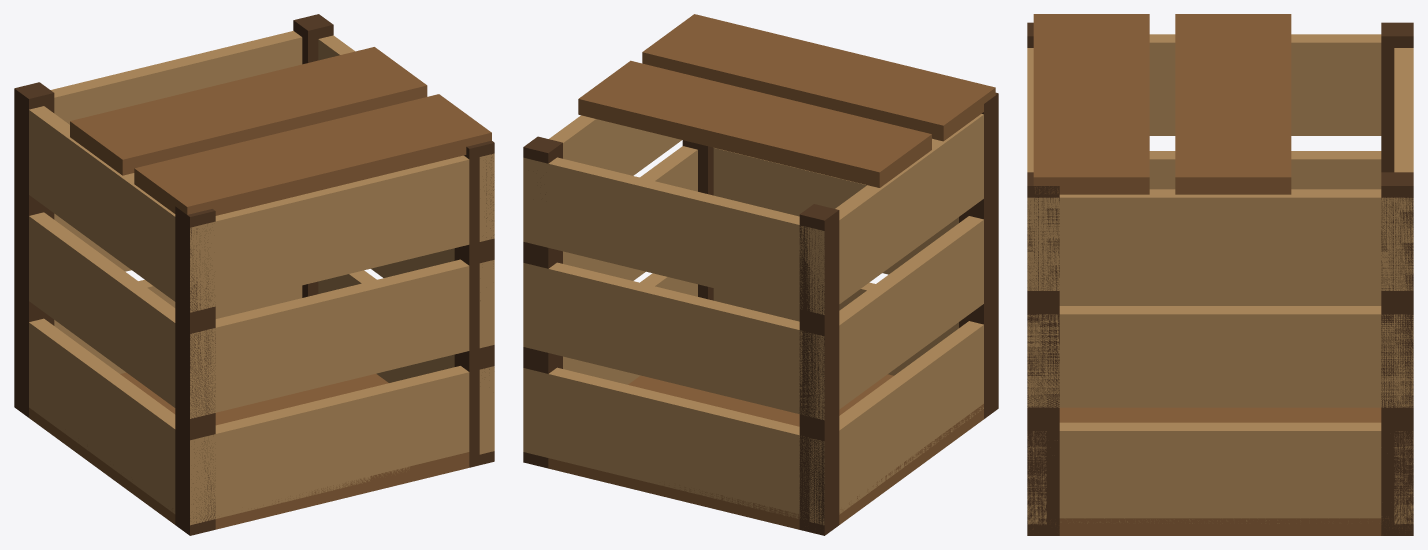
File: crate.glb
The picture shows the model from 3 angles, left to right: view 1: azimuth 30°, elevation 25°; view 2: azimuth 150°, elevation 25°; view 3: azimuth 270°, elevation 25°; orthographic projection. The views are drawn at different scales.
Visible parts, largest first — view 1: crate; view 2: crate; view 3: crate.
Boxes of the visible parts, bbox=[...] form: crate: bbox=[14, 14, 494, 535]; crate: bbox=[523, 14, 998, 535]; crate: bbox=[1027, 14, 1413, 535].
Size of the model in its own units: 0.6 by 0.615 by 0.6.
